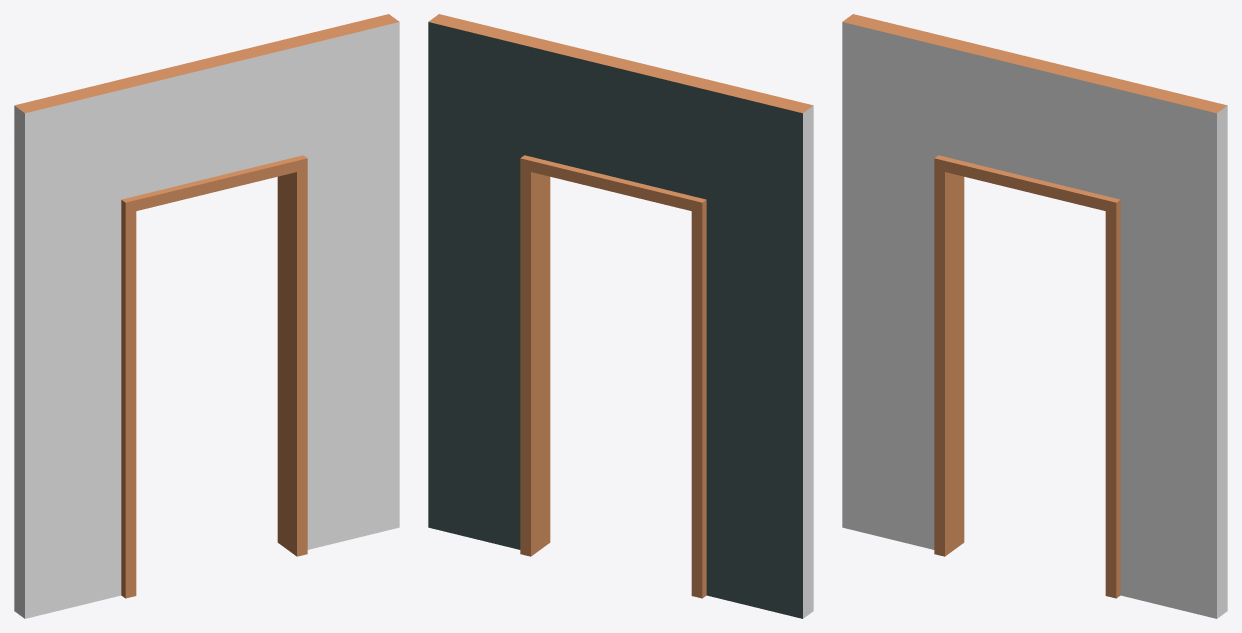
3 views of the same model, side by side, from view 1: azimuth 30°, elevation 25°; view 2: azimuth 150°, elevation 25°; view 3: azimuth 330°, elevation 25° (orthographic).
Visible parts, largest first — view 1: wallDoorway(Clone); view 2: wallDoorway(Clone); view 3: wallDoorway(Clone).
Part boxes in pixels (x1,y1,x2,y2): wallDoorway(Clone): [14, 14, 399, 618]; wallDoorway(Clone): [428, 14, 813, 618]; wallDoorway(Clone): [842, 14, 1227, 618].
Size of the model in its own units: 1 by 1.29 by 0.0891.
